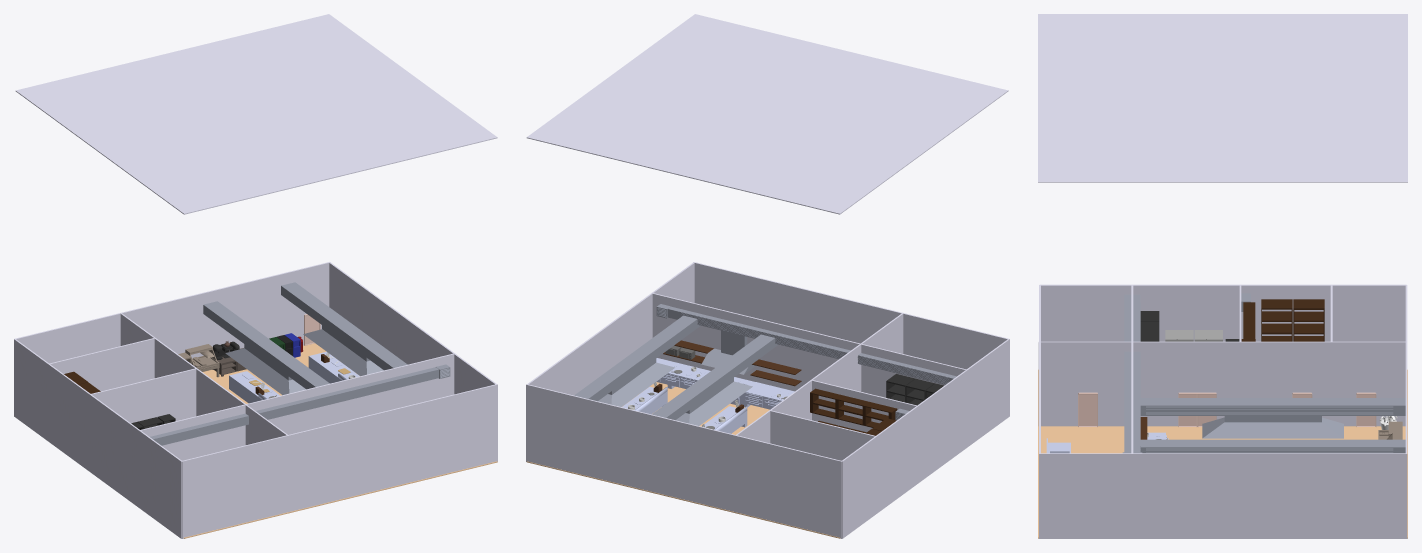
The model's file is whisker_mischeif_map.fbx.
3 views of the same model, side by side, from view 1: azimuth 30°, elevation 25°; view 2: azimuth 150°, elevation 25°; view 3: azimuth 270°, elevation 25° (orthographic). The views are drawn at different scales.
Parts seen in each view (by area): view 1: Cube.024, Plane.027, Plane.031, Plane.028, Plane.006, Plane.032, Plane.039, Ventilation_2.003, Plane.040, Plane.030, Ventilation_2.001, Ventilation_2.002 (+7 smaller); view 2: Cube.024, Plane.028, Plane.031, Plane.027, Plane.006, Plane.032, Ventilation_2.004, Plane.040, Plane.030, Ventilation_2.001, Ventilation_2.002, Plane.039 (+10 smaller); view 3: Cube.024, Plane.032, Plane.031, Plane.030, Plane.042, Ventilation_2.001, Ventilation_2.002, Cube.004, Cube.020, Plane.014, Plane.024, Ventilation_2.004 (+7 smaller).
Part boxes in pixels (x1,y1,x2,y2): Cube.024: [15, 14, 497, 214]; Plane.027: [182, 384, 497, 538]; Plane.031: [14, 339, 182, 538]; Plane.028: [14, 262, 330, 363]; Plane.006: [140, 353, 454, 460]; Plane.032: [329, 262, 496, 394]; Plane.039: [91, 368, 196, 423]; Ventilation_2.003: [150, 367, 438, 445]; Plane.040: [49, 338, 155, 391]; Plane.030: [120, 313, 246, 416]; Ventilation_2.001: [203, 301, 329, 389]; Ventilation_2.002: [281, 282, 407, 370]; Cube.024: [526, 14, 1008, 214]; Plane.028: [526, 384, 841, 538]; Plane.031: [842, 339, 1009, 538]; Plane.027: [694, 262, 1008, 369]; Plane.006: [651, 293, 966, 397]; Plane.032: [527, 262, 694, 395]; Ventilation_2.004: [667, 306, 956, 384]; Plane.040: [770, 410, 875, 460]; Plane.030: [736, 344, 861, 443]; Ventilation_2.001: [652, 334, 778, 420]; Ventilation_2.002: [574, 315, 700, 401]; Plane.039: [812, 380, 916, 432]; Cube.024: [1038, 14, 1407, 182]; Plane.032: [1039, 453, 1405, 538]; Plane.031: [1039, 284, 1406, 341]; Plane.030: [1132, 341, 1405, 426]; Plane.042: [1038, 341, 1131, 426]; Ventilation_2.001: [1140, 398, 1405, 415]; Ventilation_2.002: [1140, 439, 1405, 453]; Cube.004: [1038, 369, 1407, 538]; Cube.020: [1202, 417, 1343, 438]; Plane.014: [1293, 299, 1324, 341]; Plane.024: [1261, 299, 1292, 341]; Ventilation_2.004: [1133, 294, 1140, 452].
Bounding box in the file's own units: 2542 × 2497 × 2346.
